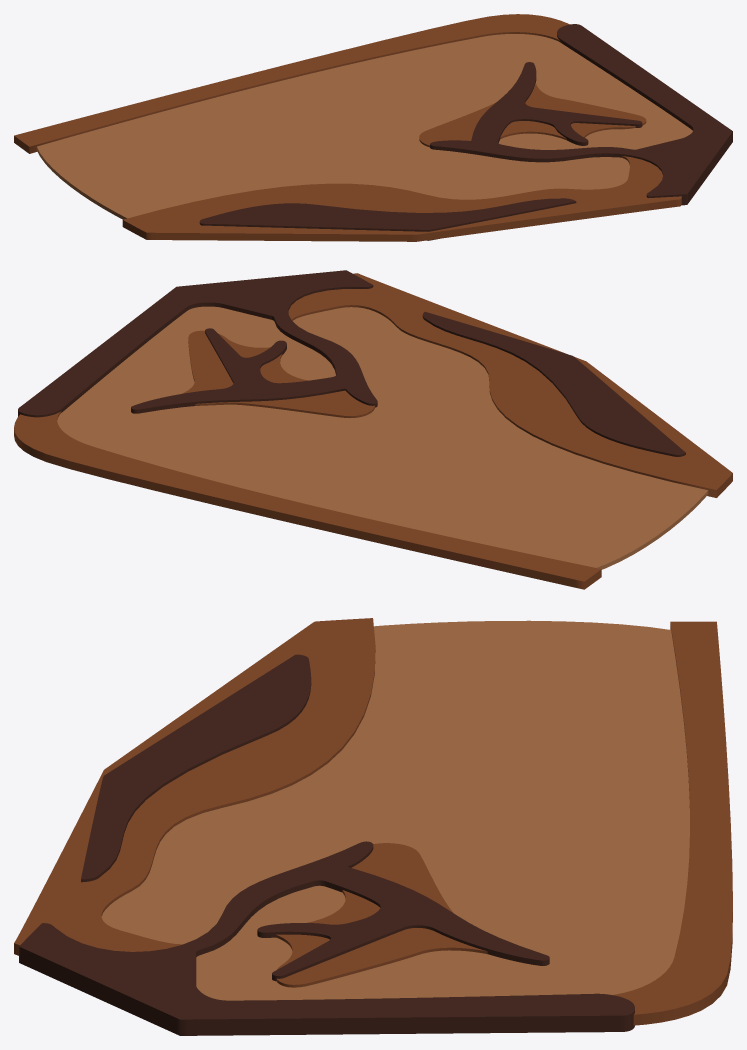
The model's file is emoji_u1f91c_1f3fe.glb.
3 views of the same model, one above another, from view 1: azimuth 30°, elevation 25°; view 2: azimuth 150°, elevation 25°; view 3: azimuth 270°, elevation 25° (orthographic). The views are drawn at different scales.
Parts seen in each view (by area): view 1: emoji_u1f91c_1f3fe; view 2: emoji_u1f91c_1f3fe; view 3: emoji_u1f91c_1f3fe.
Boxes of the visible parts, <box> form: emoji_u1f91c_1f3fe: <box>14,14,732,241</box>; emoji_u1f91c_1f3fe: <box>14,270,732,589</box>; emoji_u1f91c_1f3fe: <box>14,618,732,1035</box>.
Bounding box in the file's own units: 0.0318 × 0.0006 × 0.0239.
